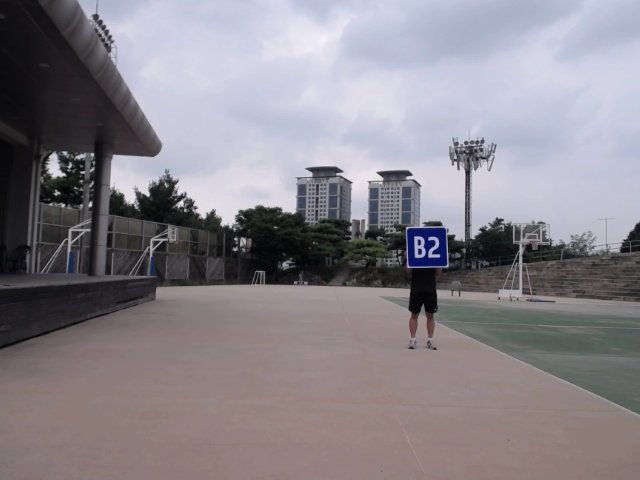delivery_b2: (405, 226, 450, 269)
